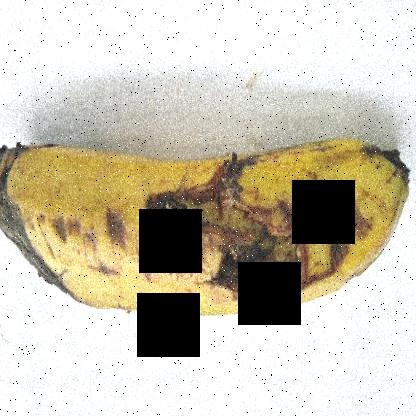rotten: (0, 102, 415, 363)
